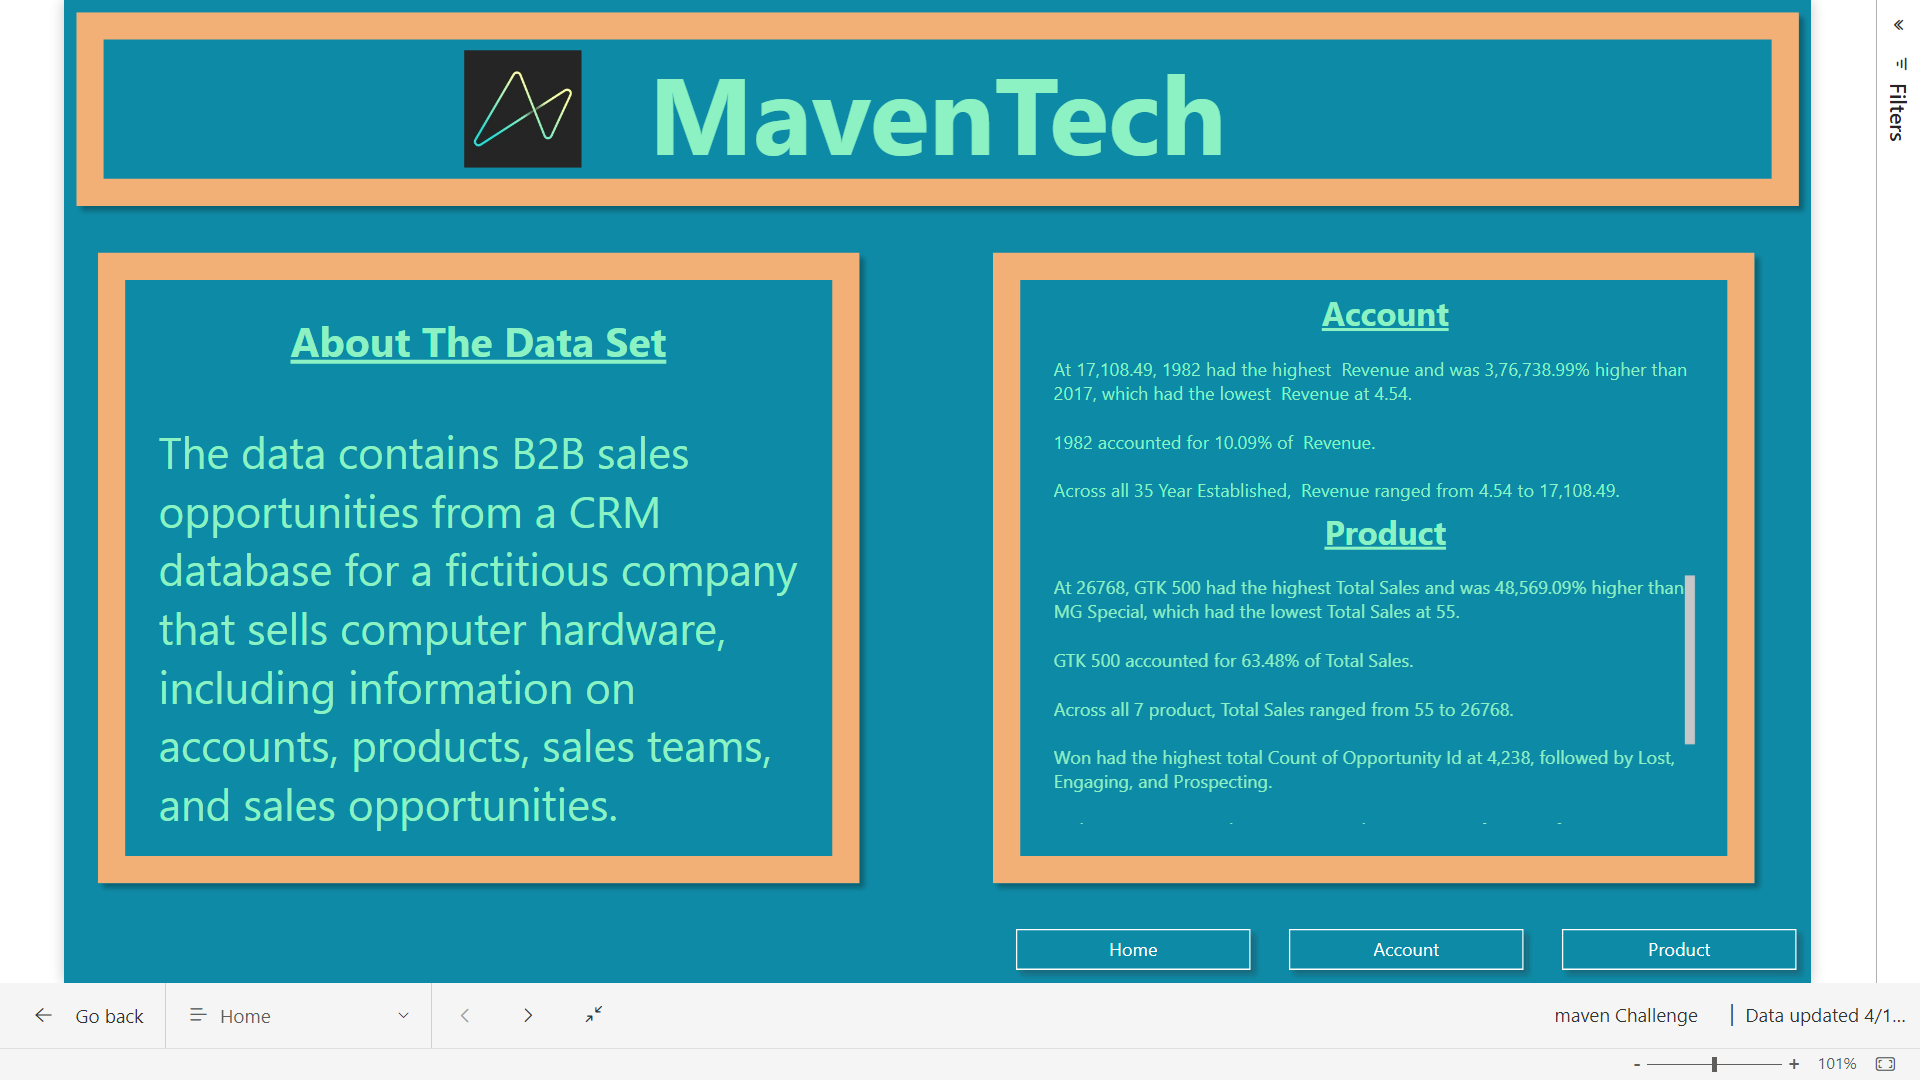

The dashboard page shown, as its layout file describes it:
{"tool":"powerbi","page":{"name":"Home","canvas":[1280,720],"ordinal":0},"visuals":[{"type":"shape","box":[0,0,1280,160],"z":0},{"type":"image","box":[256,32,160,96],"z":1000},{"type":"shape","box":[16,176,576,480],"z":2000},{"type":"textbox","box":[64,304,480,320],"z":3000},{"type":"textbox","box":[128,224,352,64],"z":4000},{"type":"shape","box":[672,176,576,480],"z":5000},{"type":"textbox","box":[720,256,496,144],"z":6000},{"type":"textbox","box":[816,208,304,48],"z":7000},{"type":"textbox","box":[720,416,480,192],"z":8000},{"type":"textbox","box":[816,368,304,48],"z":9000},{"type":"pageNavigator","box":[688,672,592,48],"z":10000}]}

Visuals, with their boxes on the page's 1280x720 design canvas (x1, y1, x2, y2). These are canvas units, not pixel positions in the 1920x1080 screenshot, which may show the page scaled, cropped or inside an application window:
shape: {"x1": 0, "y1": 0, "x2": 1280, "y2": 160}
image: {"x1": 256, "y1": 32, "x2": 416, "y2": 128}
shape: {"x1": 16, "y1": 176, "x2": 592, "y2": 656}
textbox: {"x1": 64, "y1": 304, "x2": 544, "y2": 624}
textbox: {"x1": 128, "y1": 224, "x2": 480, "y2": 288}
shape: {"x1": 672, "y1": 176, "x2": 1248, "y2": 656}
textbox: {"x1": 720, "y1": 256, "x2": 1216, "y2": 400}
textbox: {"x1": 816, "y1": 208, "x2": 1120, "y2": 256}
textbox: {"x1": 720, "y1": 416, "x2": 1200, "y2": 608}
textbox: {"x1": 816, "y1": 368, "x2": 1120, "y2": 416}
pageNavigator: {"x1": 688, "y1": 672, "x2": 1280, "y2": 720}
